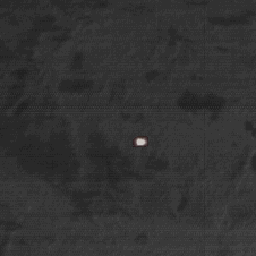Target: (132, 136, 148, 147)
